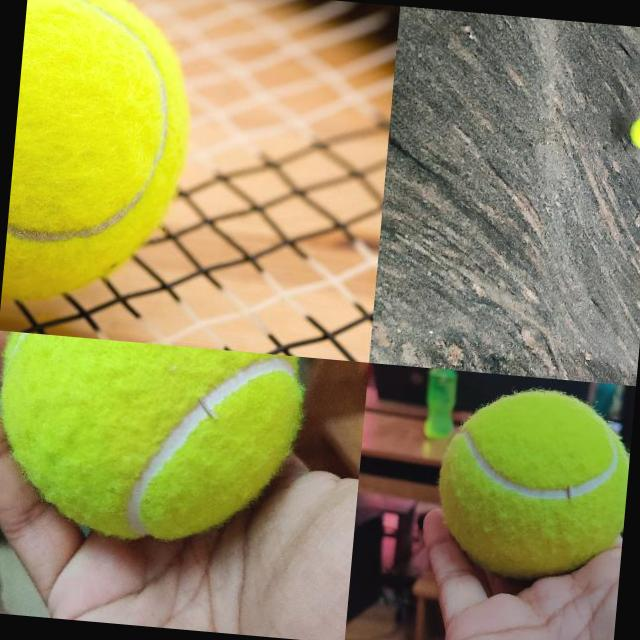Tennis Ball: (0, 331, 306, 552), (1, 0, 204, 314), (432, 382, 634, 586), (627, 113, 640, 151)
